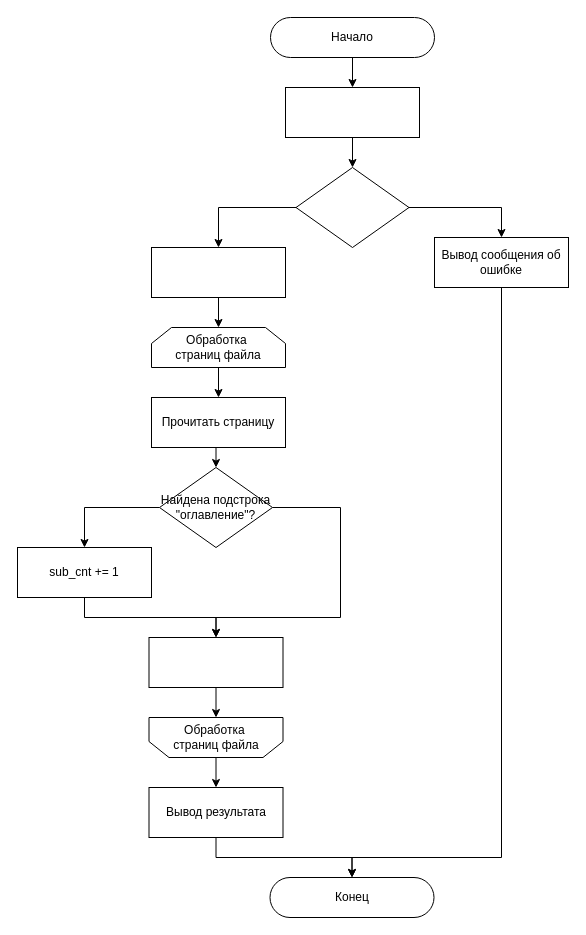
The diagram is 586 pixels wide and 935 high, and some of its shapes have lost their labels. The shapes that lost their labels are listed below. From the top down, each one's box as (x1, y1, x2, y2) in pixels, then its label:
(284, 86, 420, 138): Получение PDF файла от пользователя
(295, 166, 409, 248): Файл валиден?
(150, 246, 286, 298): Открыть файл; page_cnt = 0 sub_cnt = 0
(148, 636, 283, 688): page_cnt += 1
